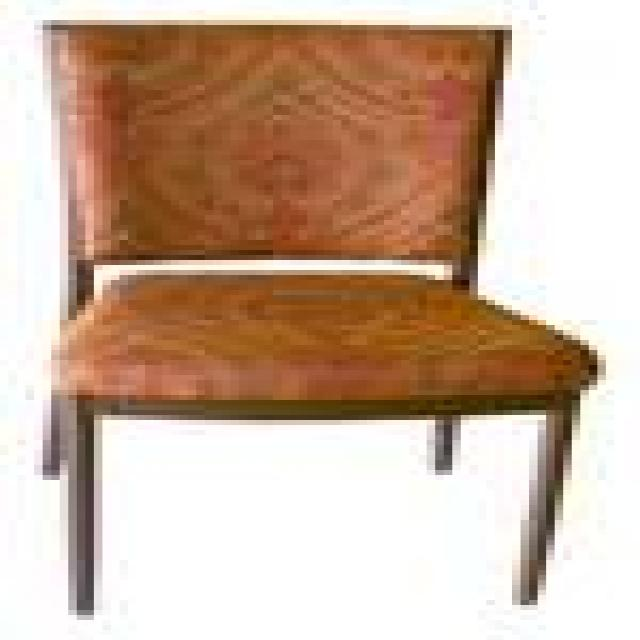chair: (31, 18, 605, 618)
